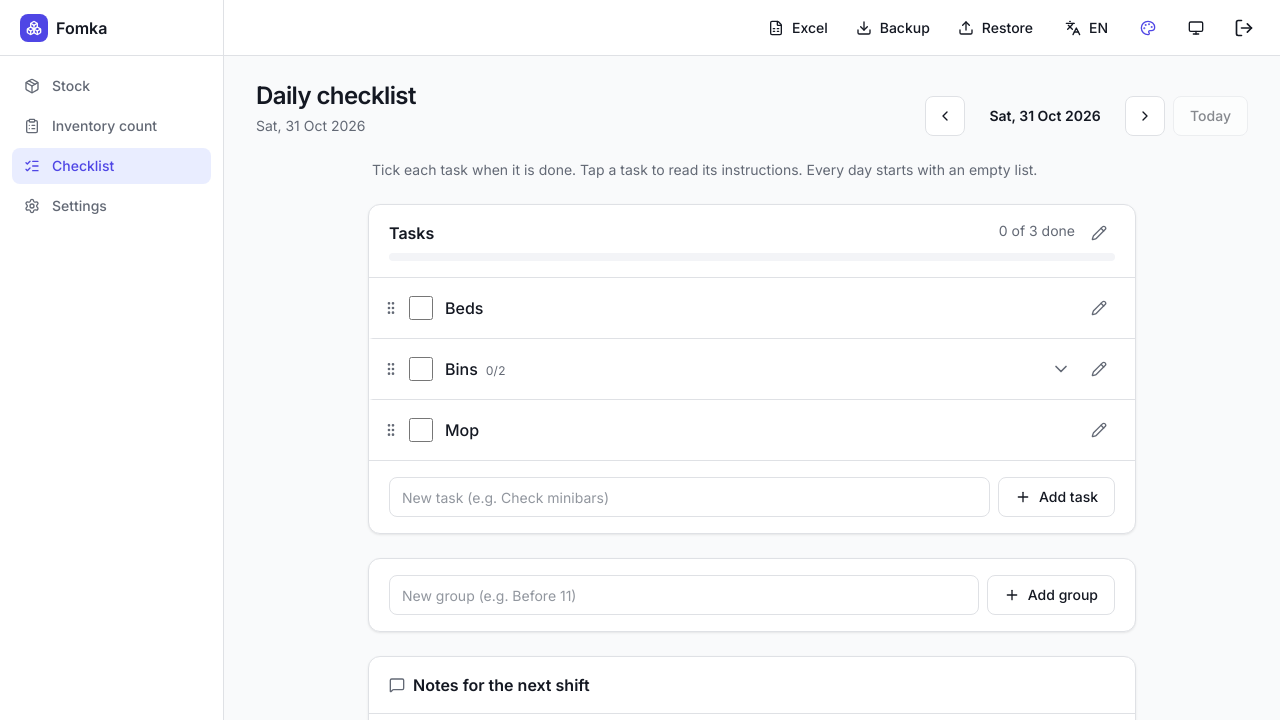
Test case: checklist › groups › starts with one group card, and adds and renames groups
Expected: the heading "Tasks" is shown, [389,223,434,243]
Type "Service" into the field with placeholder "New group (e.g. Before 11)" at (684,595), box [389,575,979,615]
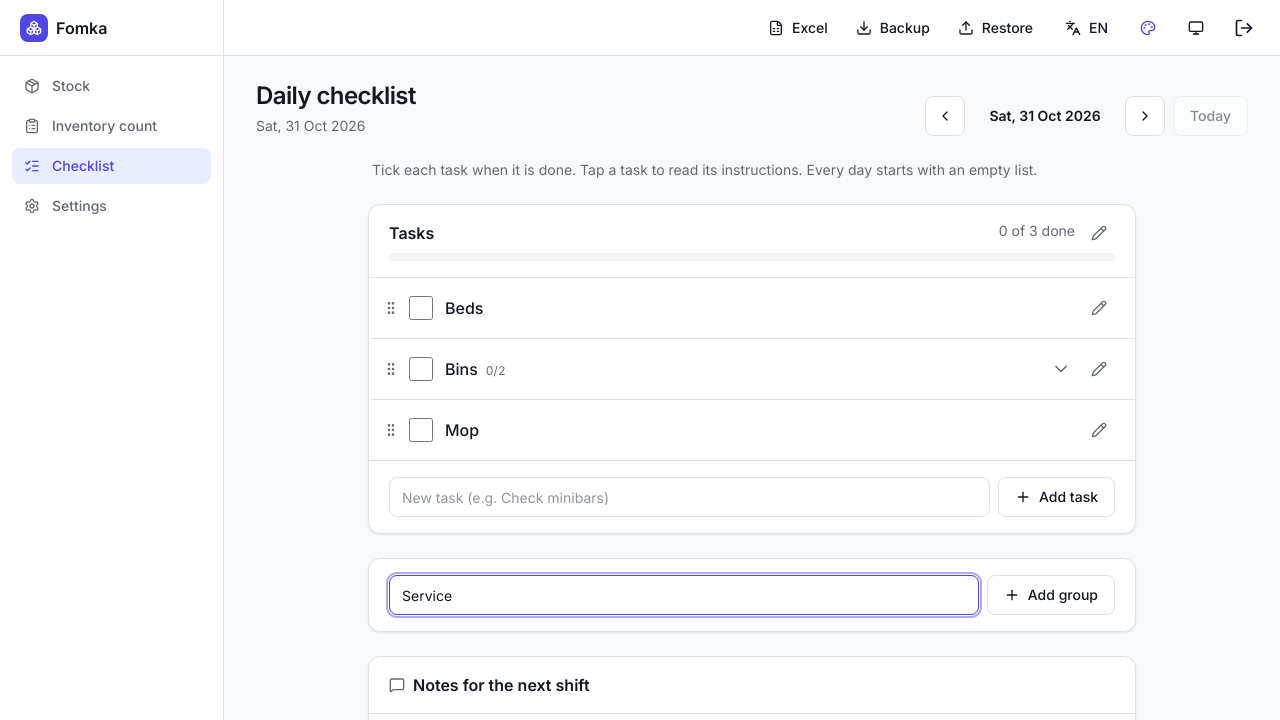
Click the button "Add group" at (1051,595), box [987,575,1115,615]
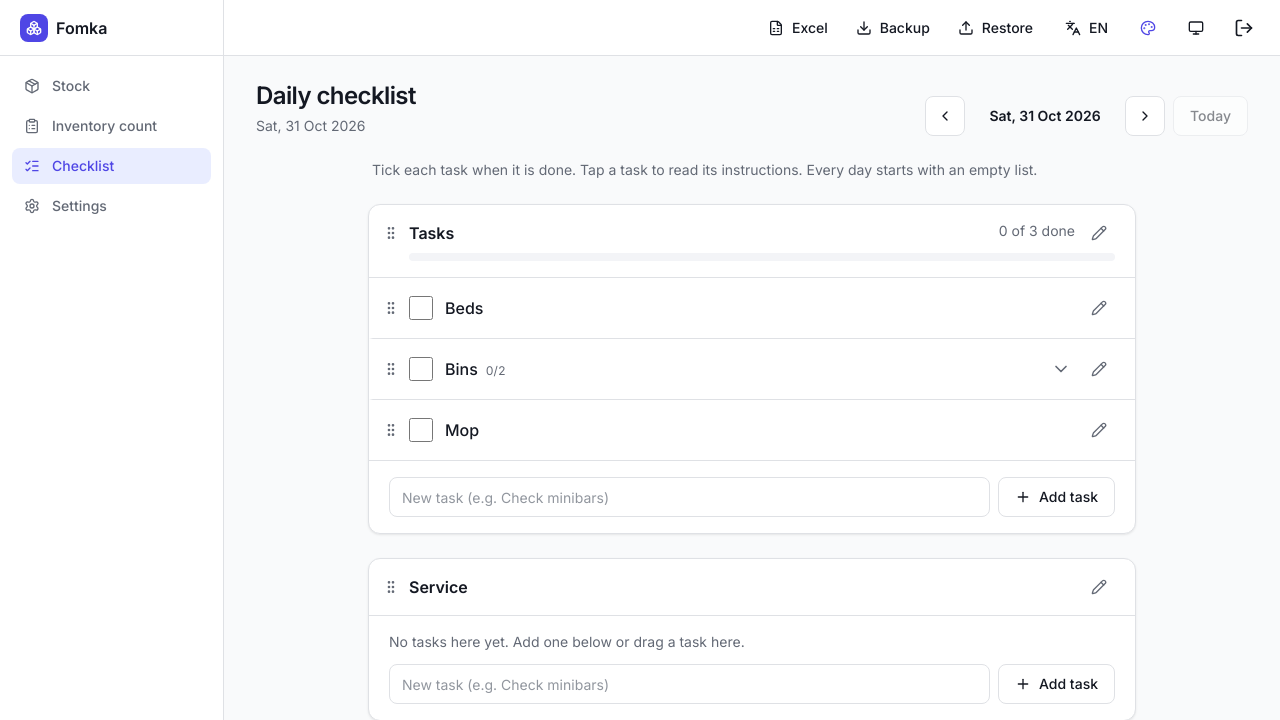
Result: the heading "Service" is shown at [409,577,468,597]
Click the button named "Edit group Tasks" at (1099,233), box [1083,217,1115,249]
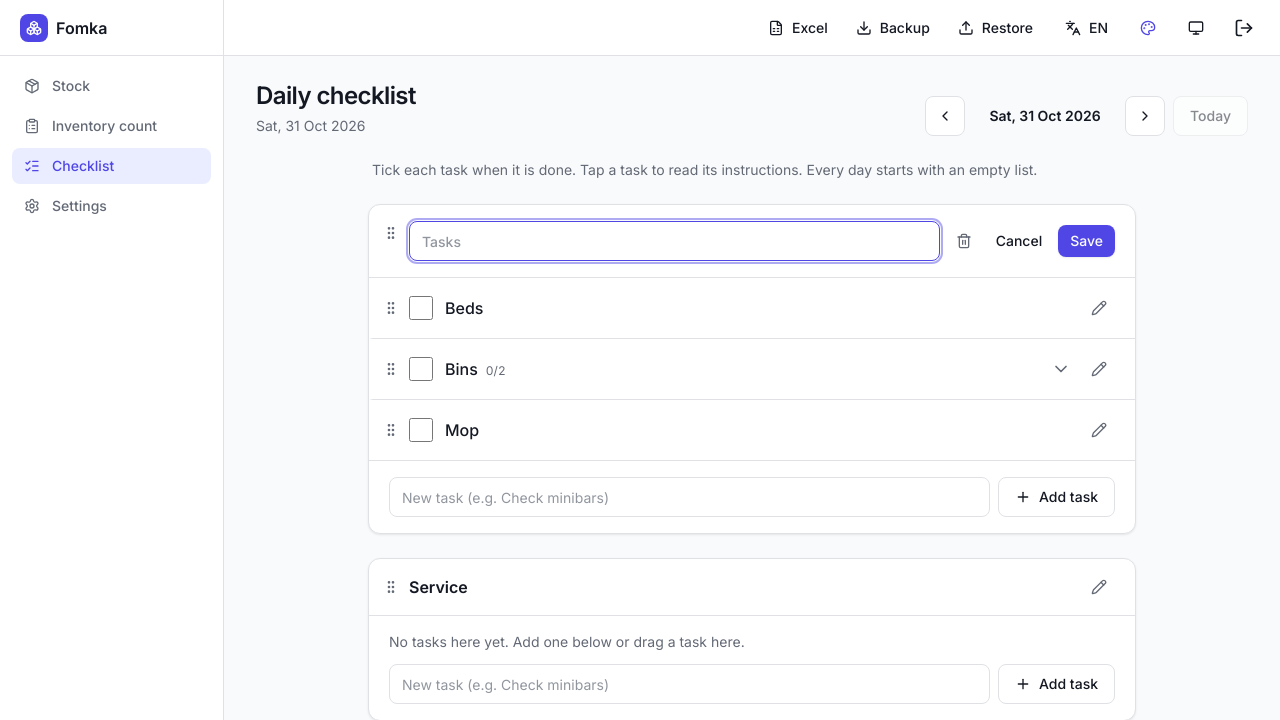
Type "Before 11" into the field named "Group name" at (674,241), box [409,221,940,261]
Then press Enter
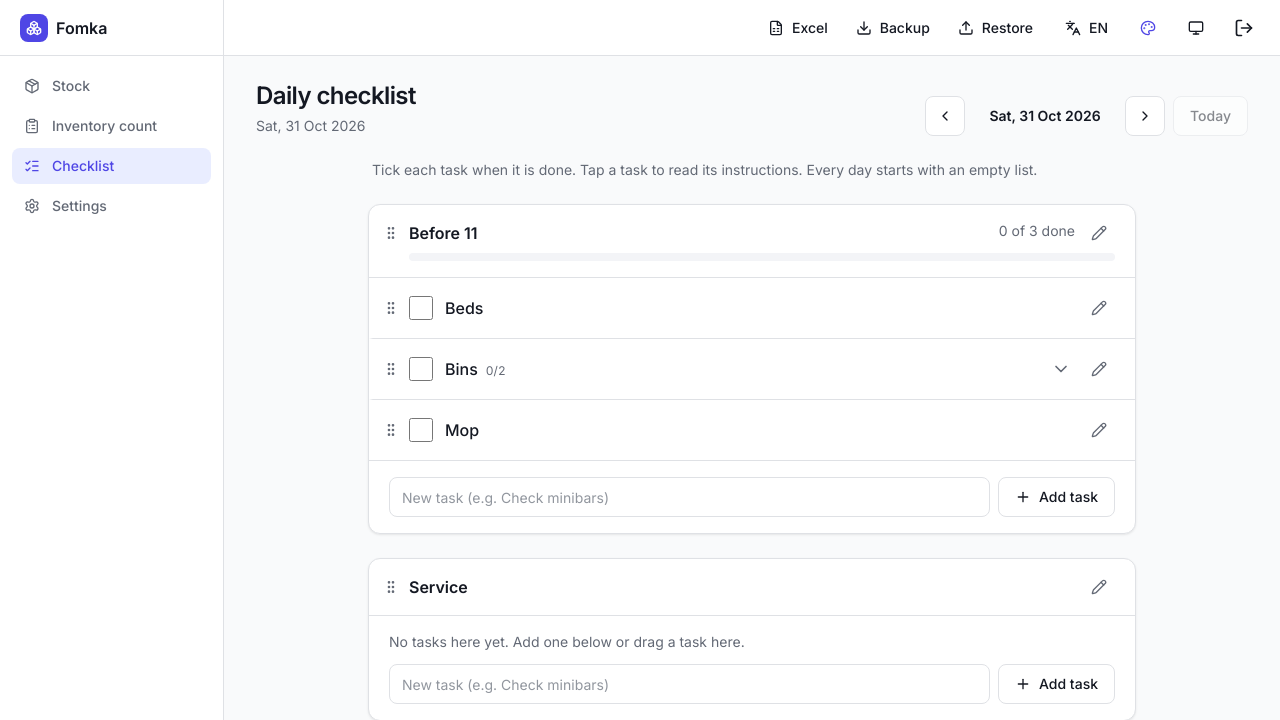
Result: the heading "Before 11" is shown at [409,223,478,243]
